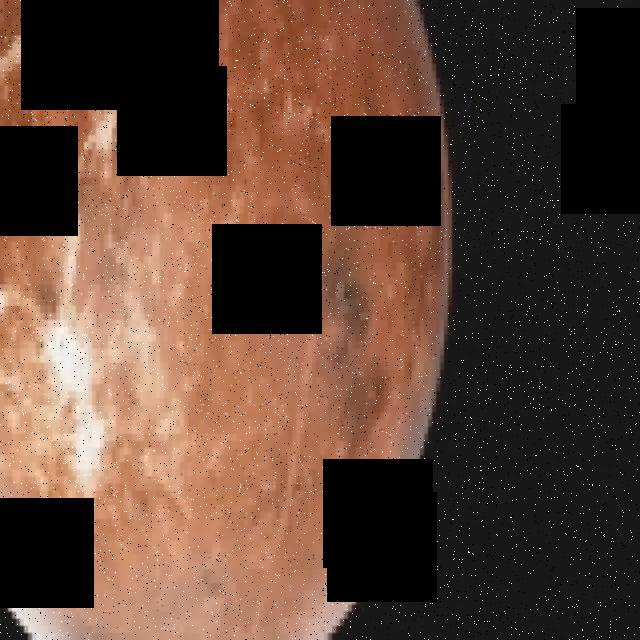Venus: (0, 0, 452, 640)
